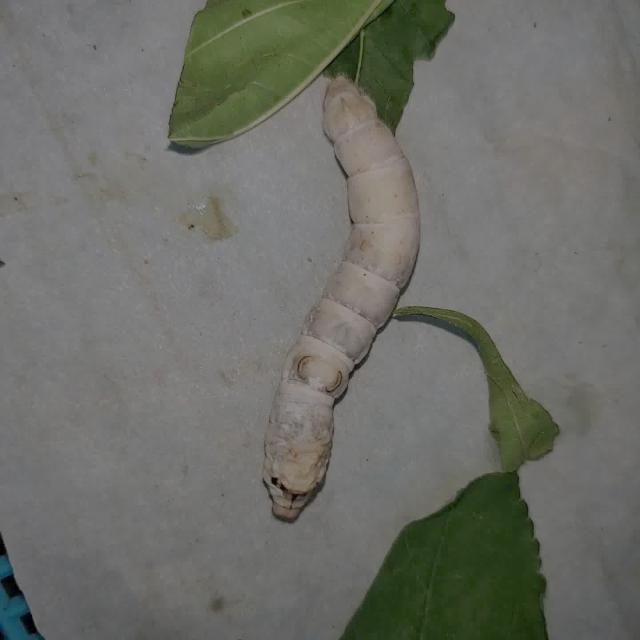Grasserie: (238, 46, 444, 550)
